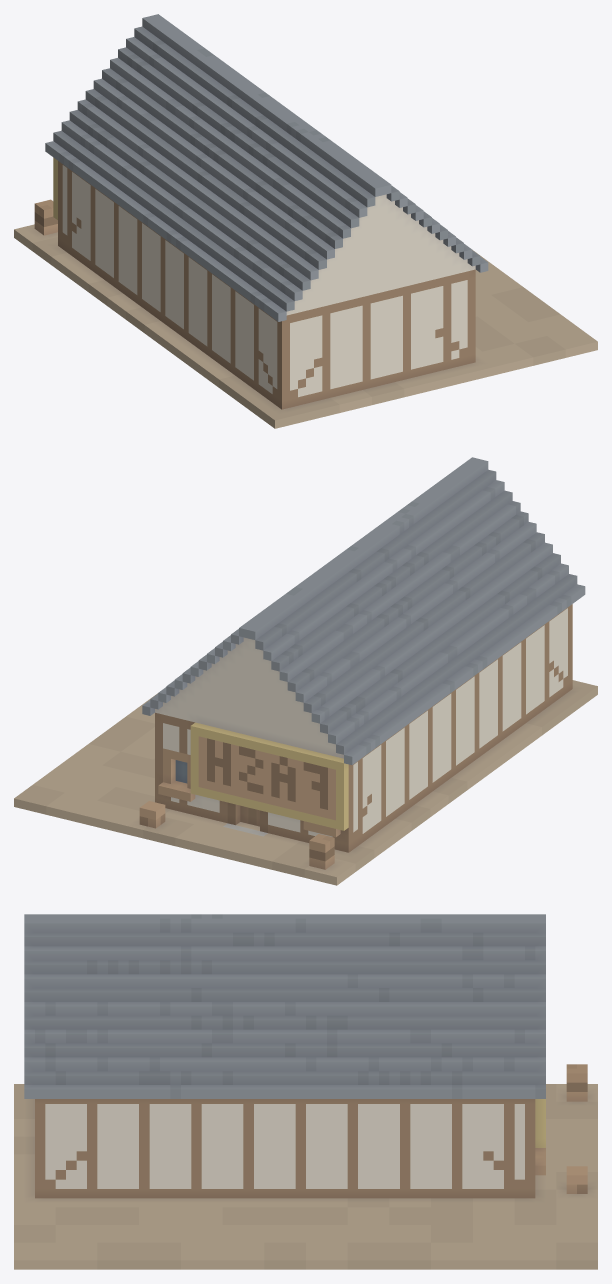
Rendered from fashion_house.glb.
The picture shows the model from 3 angles, top to bottom: view 1: azimuth 30°, elevation 25°; view 2: azimuth 150°, elevation 25°; view 3: azimuth 270°, elevation 25°; orthographic projection. The views are drawn at different scales.
Visible parts, largest first — view 1: fashion_house; view 2: fashion_house; view 3: fashion_house.
Boxes of the visible parts, bbox=[...] form: fashion_house: bbox=[14, 14, 597, 428]; fashion_house: bbox=[14, 457, 597, 885]; fashion_house: bbox=[14, 914, 597, 1269].
Size of the model in its own units: 5 by 3.12 by 7.
